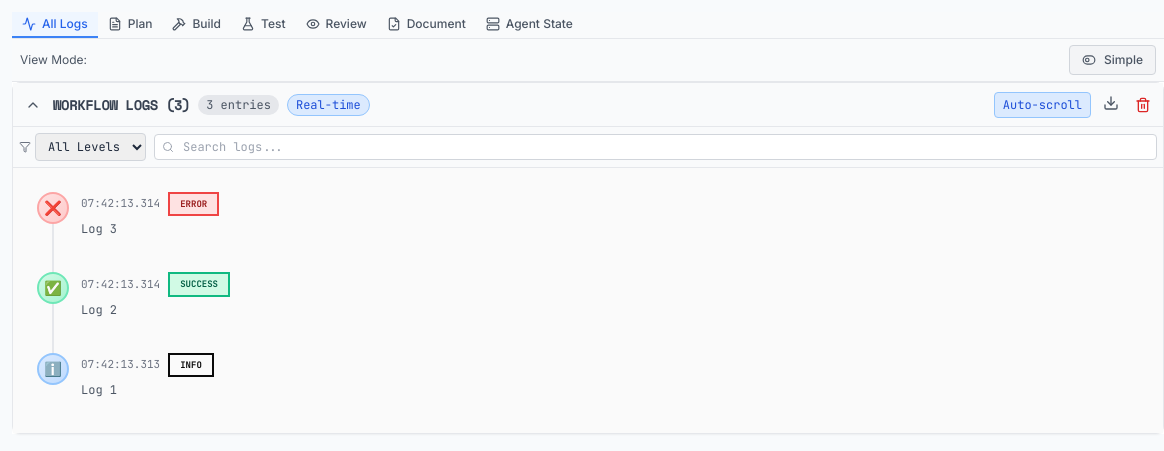
Test: StageLogsViewer Component › Error State › should show error message when stage logs fail to load
Click the button "Plan": {"x": 130, "y": 25} left=98, top=12, right=162, bottom=38
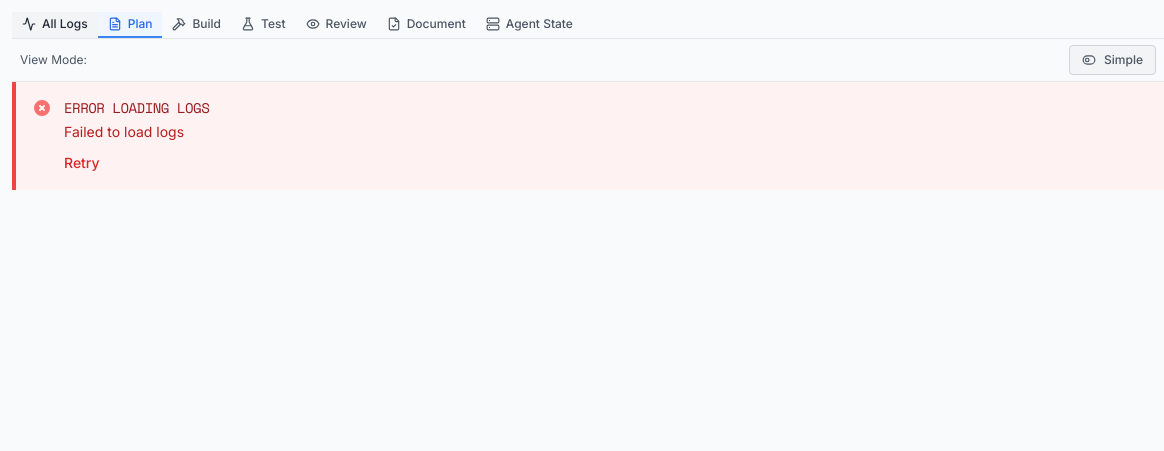
Check: the heading "Error loading logs" is shown, box left=64, top=98, right=209, bottom=118
Check: the text "Failed to load logs" is shown, box left=64, top=123, right=184, bottom=140
